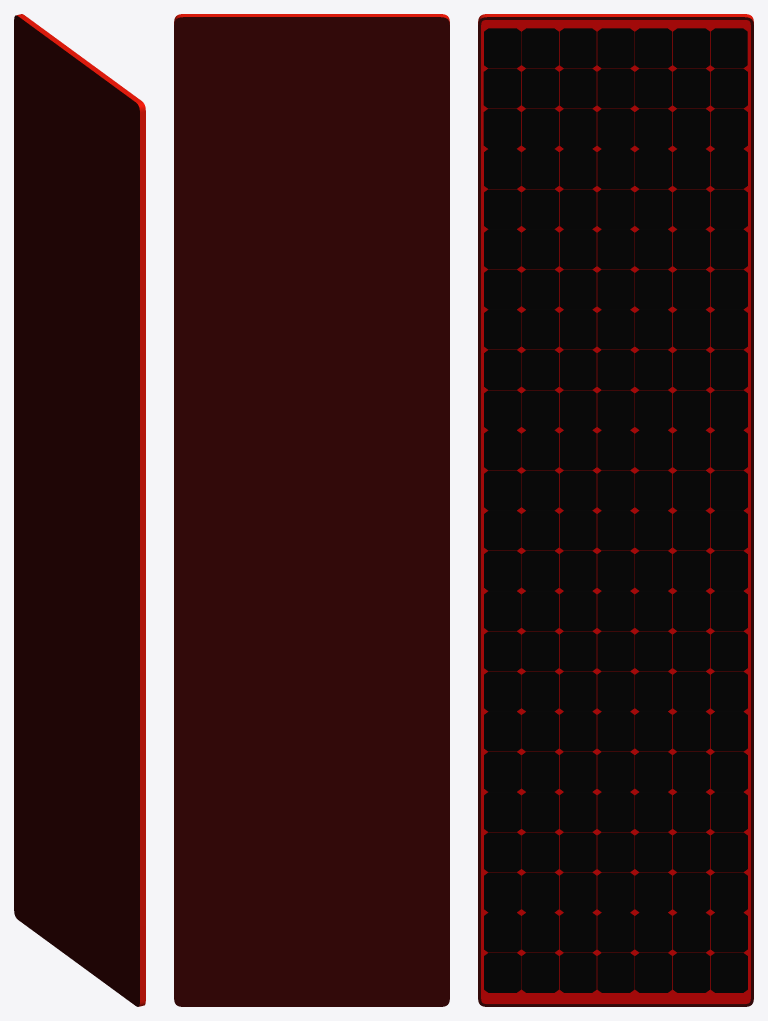
Rendered from solar.fbx.
3 views of the same model, side by side, from view 1: azimuth 90°, elevation 25°; view 2: azimuth 150°, elevation 25°; view 3: azimuth 330°, elevation 25° (orthographic). The views are drawn at different scales.
Visible parts, largest first — view 1: Side Solar - Common/Uncommon; view 2: Side Solar - Common/Uncommon; view 3: Side Solar - Common/Uncommon.
Part boxes in pixels (x1=…): Side Solar - Common/Uncommon: x1=14, y1=14, x2=145, y2=1006; Side Solar - Common/Uncommon: x1=174, y1=14, x2=449, y2=1006; Side Solar - Common/Uncommon: x1=478, y1=14, x2=753, y2=1006.
Bounding box in the file's own units: 17.45 × 78.54 × 10.38.
